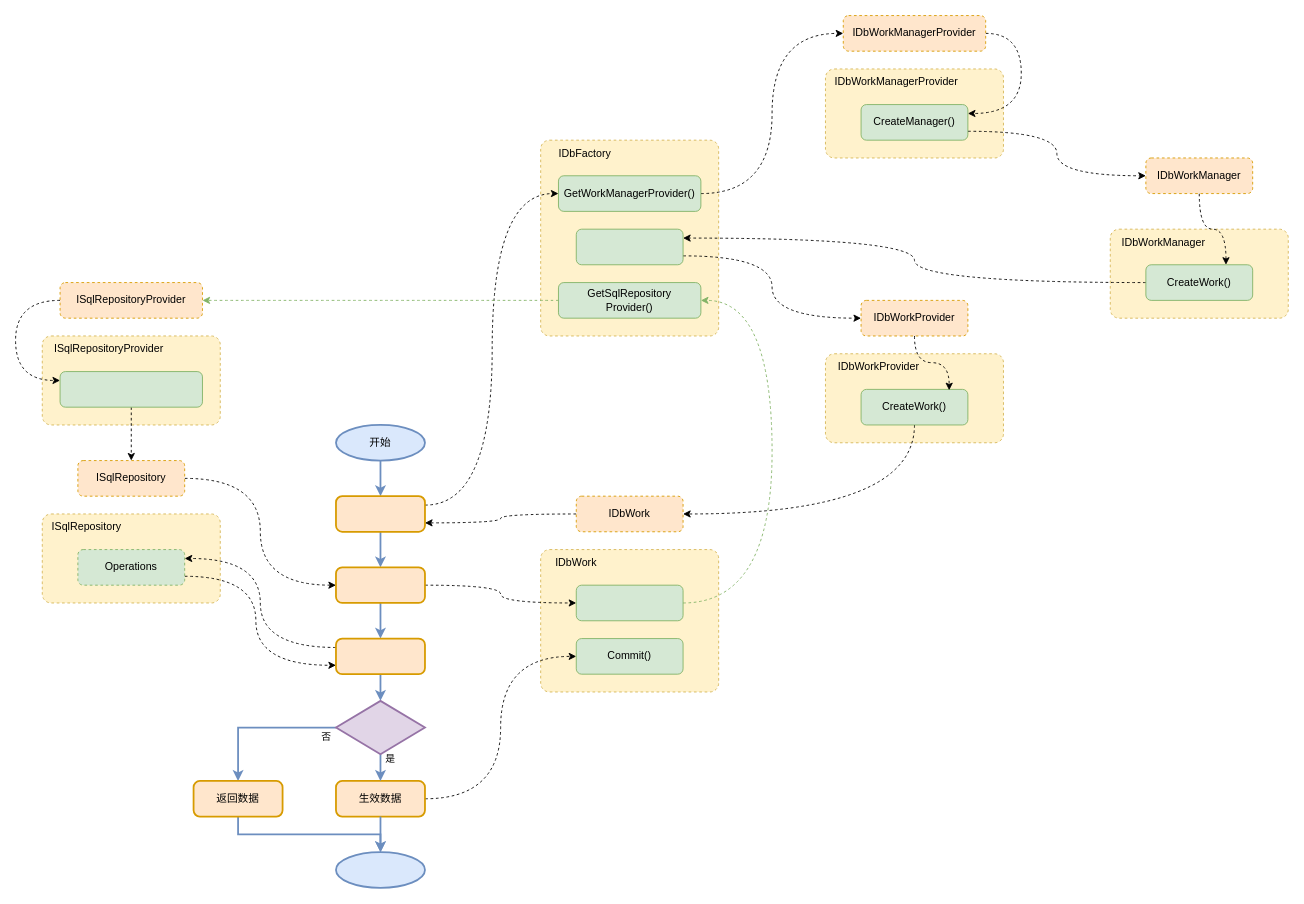
Image size: 1304x904. Some labels were removed from this diagram. Here are the shapes that lost their labels. From the top down, the centre of each, then its label:
pixel 629 246: GetWorkProvider()
pixel 130 389: CreateSqlRepository()
pixel 380 513: 创建工作
pixel 380 584: 创建工作仓库
pixel 629 602: GetSqlRepository()
pixel 380 656: 操作数据
pixel 380 727: 需要保存
pixel 380 869: 结束
